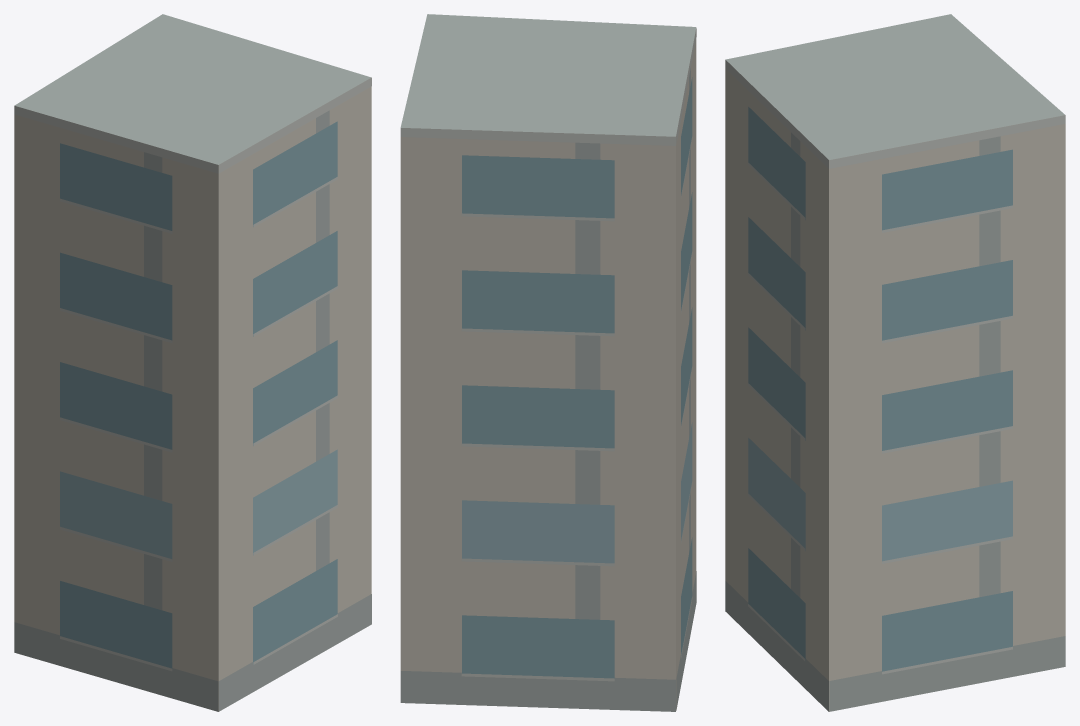
File: survey-upis-32707793.glb
3 views of the same model, side by side, from view 1: azimuth 30°, elevation 25°; view 2: azimuth 150°, elevation 25°; view 3: azimuth 270°, elevation 25° (orthographic). The views are drawn at different scales.
Visible parts, largest first — view 1: survey-upis-32707793.tmp; view 2: survey-upis-32707793.tmp; view 3: survey-upis-32707793.tmp.
Boxes of the visible parts, x1,y1,x2,y2 form: survey-upis-32707793.tmp: (14,14,371,711); survey-upis-32707793.tmp: (400,14,696,711); survey-upis-32707793.tmp: (725,14,1065,711).
Size of the model in its own units: 8.67 by 15.25 by 8.53.
